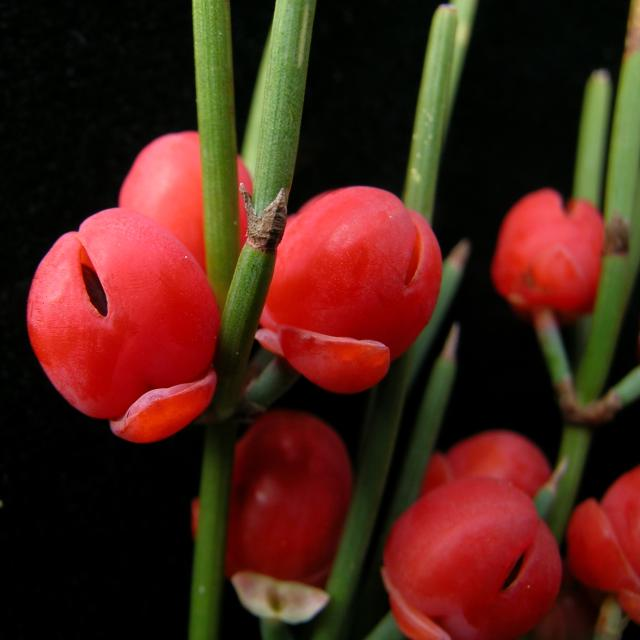Somavalli: (19, 108, 256, 446), (257, 171, 438, 404), (363, 455, 571, 626), (208, 418, 390, 604), (483, 201, 602, 357)
